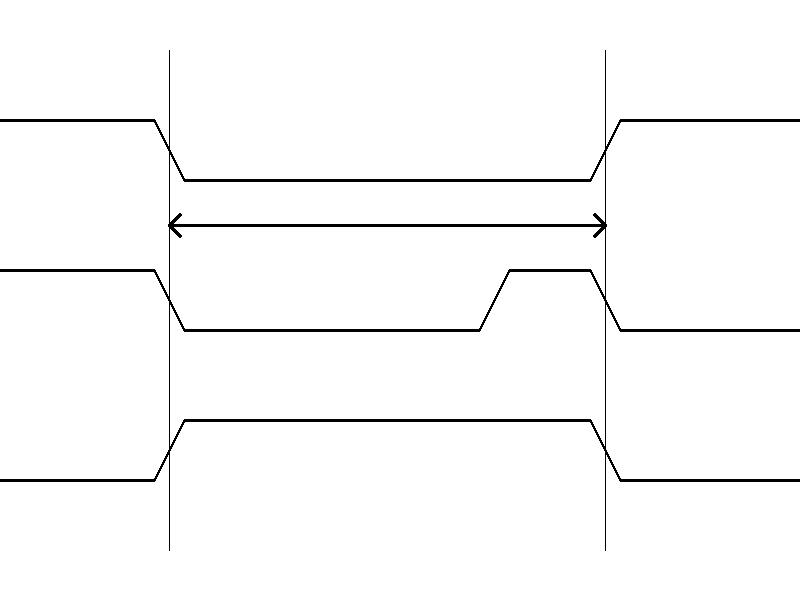double_arrow: (169, 210, 605, 240)
